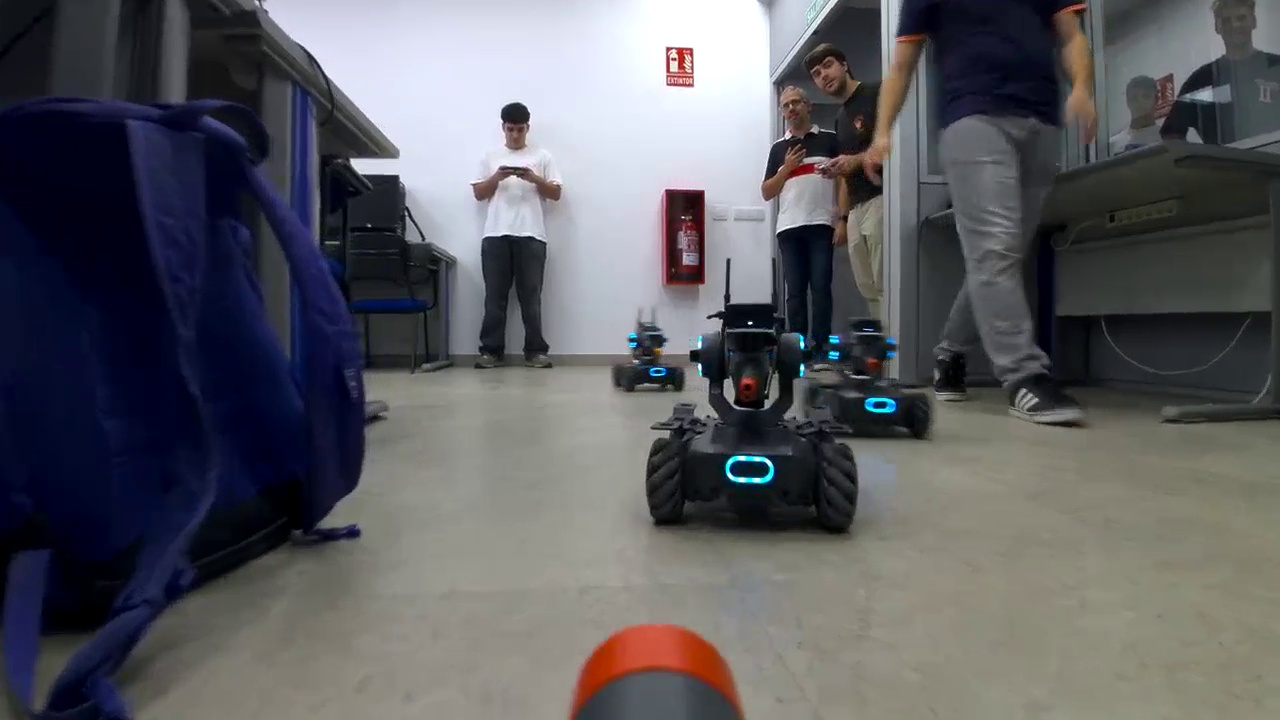robot: (637, 300, 863, 539), (798, 311, 937, 445), (603, 315, 689, 392)
